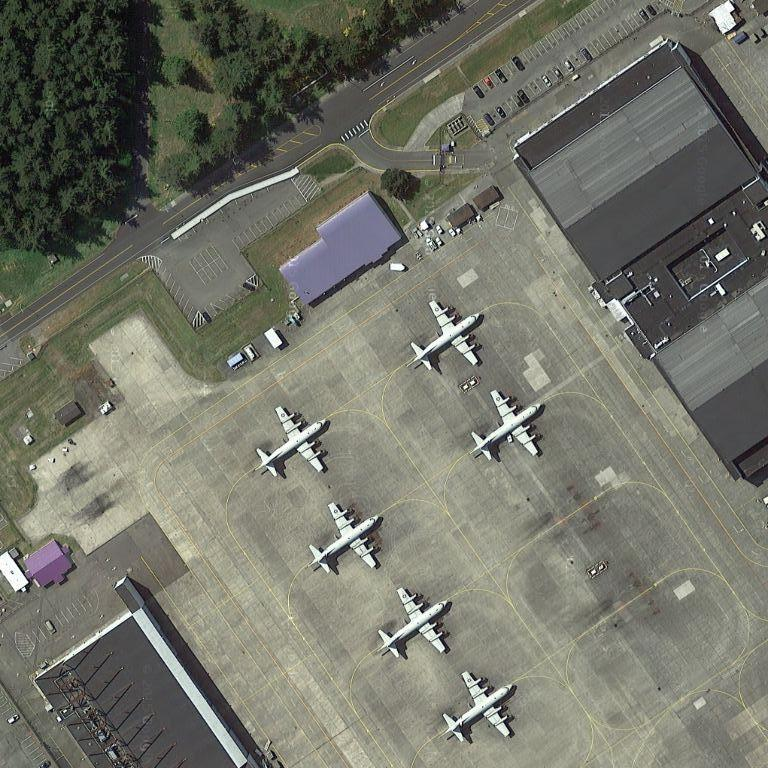P-3C: (466, 385, 550, 469), (404, 295, 487, 380), (438, 667, 518, 750), (374, 584, 454, 664), (306, 499, 385, 580), (251, 403, 332, 481)
